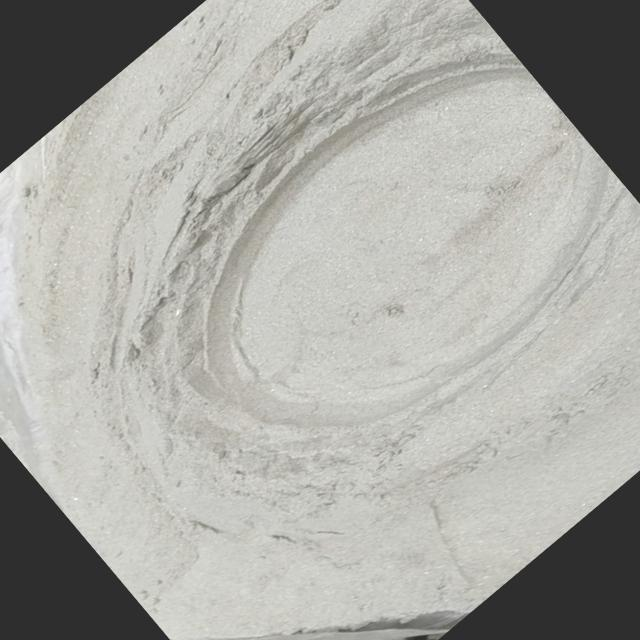C40: (163, 8, 619, 479)
